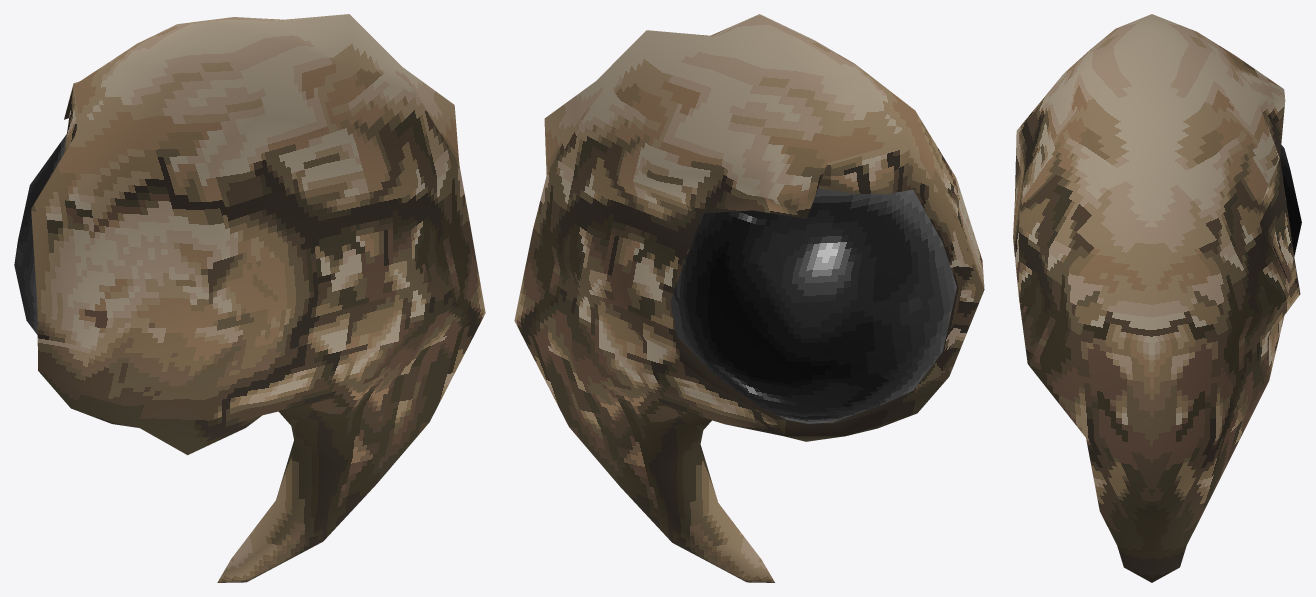
Rendered from ps2_save-icons_shadowhearts.glb.
The picture shows the model from 3 angles, left to right: view 1: azimuth 30°, elevation 25°; view 2: azimuth 150°, elevation 25°; view 3: azimuth 270°, elevation 25°; orthographic projection. The views are drawn at different scales.
Visible parts, largest first — view 1: TALIS.ICO; view 2: TALIS.ICO; view 3: TALIS.ICO.
Part boxes in pixels (box(x1,y1,x2,y2)): TALIS.ICO: box(14, 14, 485, 582); TALIS.ICO: box(514, 14, 984, 582); TALIS.ICO: box(1013, 14, 1301, 582).
Bounding box in the file's own units: 3.35 × 3.98 × 1.98.
1 material, 1 textured.
